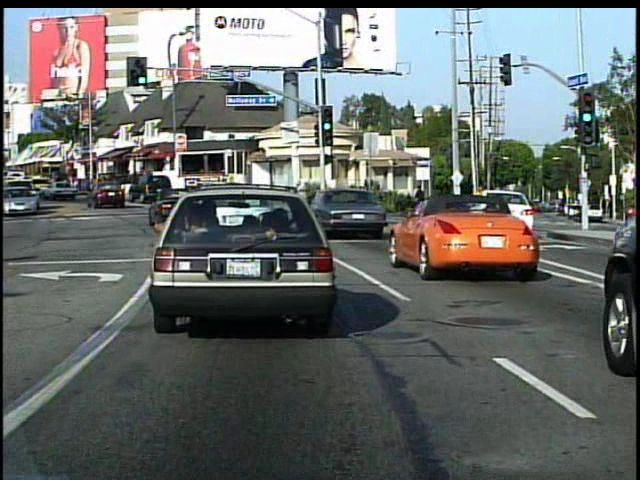person: (413, 181, 430, 222)
